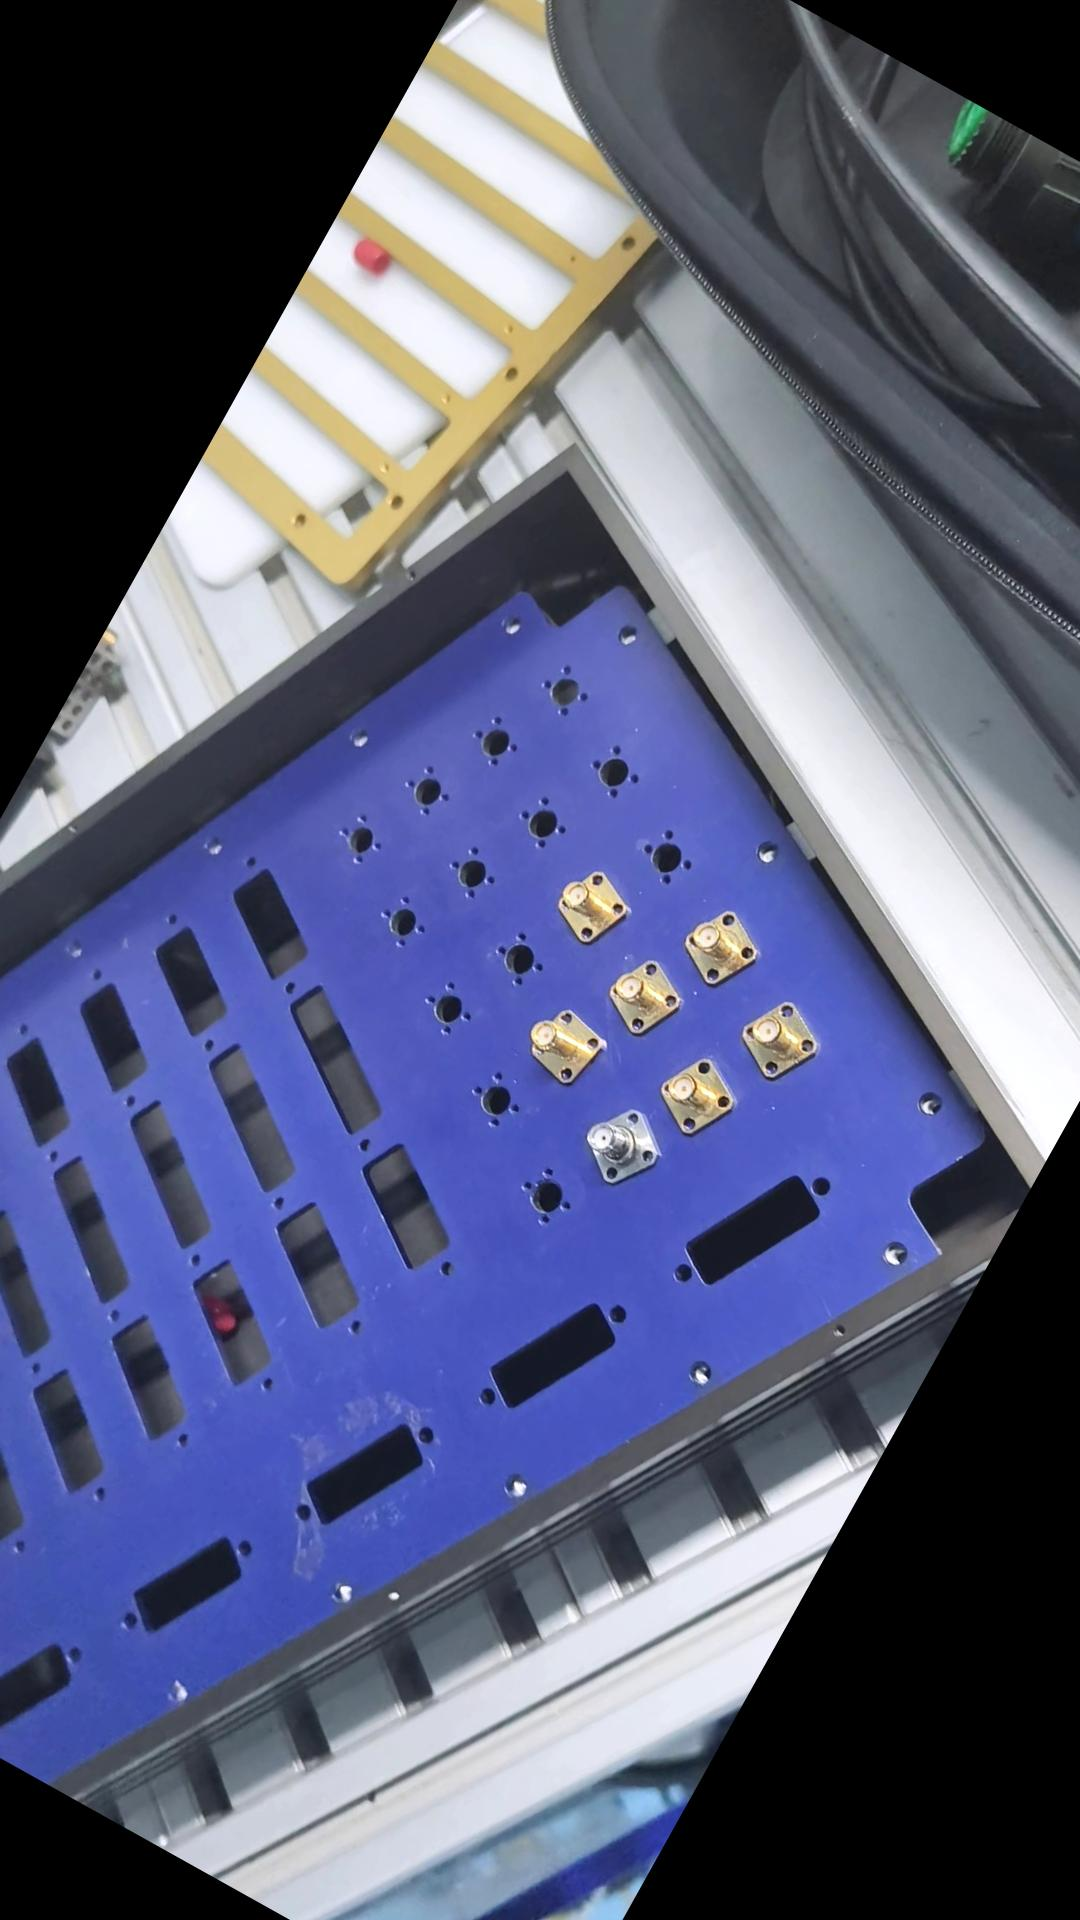SMA: (564, 1087, 676, 1197), (589, 942, 700, 1051), (537, 853, 645, 960), (644, 1042, 750, 1146), (723, 988, 829, 1091), (506, 990, 611, 1093), (667, 891, 769, 996)
